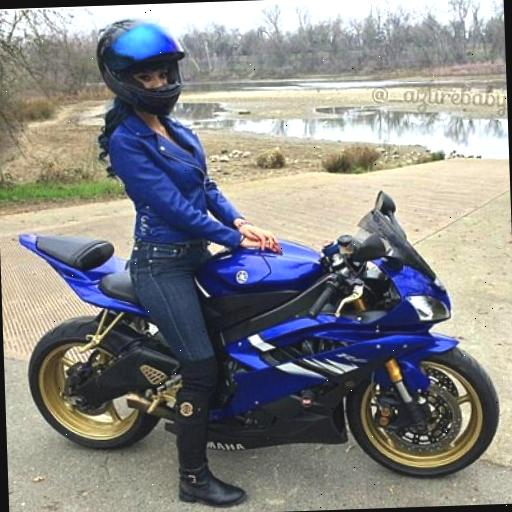helmet: (71, 0, 494, 506)
